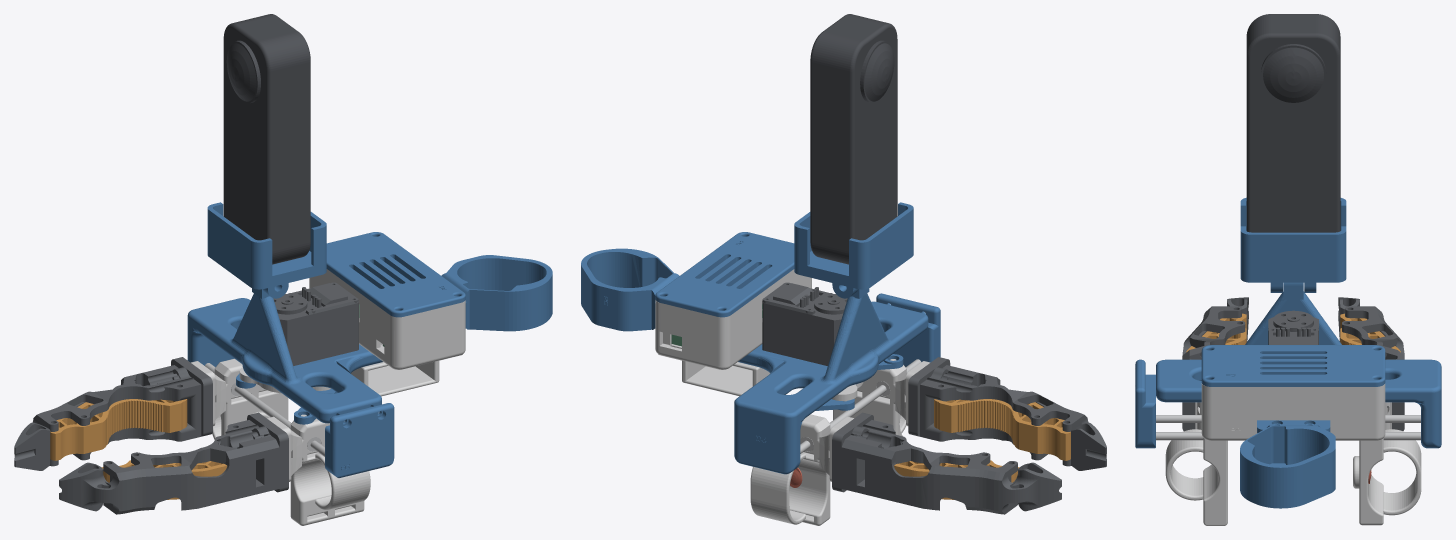
File: para-umi_right_open-enpire.glb
3 views of the same model, side by side, from view 1: azimuth 30°, elevation 25°; view 2: azimuth 150°, elevation 25°; view 3: azimuth 270°, elevation 25° (orthographic). The views are drawn at different scales.
Visible parts, largest first — view 1: insta360_x5, tip_thumb, main_support, tip_index, electronics_lid, controller_support, electronics_box, x5_wrist_mount, servo_sts3215, thumb_link, tip_index_1, main_support_cover_plate (+4 smaller); view 2: insta360_x5, main_support, tip_index, tip_thumb, electronics_lid, controller_support, electronics_box, index_link, x5_wrist_mount, servo_sts3215, tip_thumb_1, thumb_link (+4 smaller); view 3: insta360_x5, electronics_box, electronics_lid, controller_support, main_support, x5_wrist_mount, index_link, thumb_link, tip_thumb, tip_index, main_support_cover_plate, servo_sts3215 (+4 smaller).
Boxes of the visible parts, bbox=[...] form: insta360_x5: bbox=[223, 14, 310, 264]; tip_thumb: bbox=[59, 412, 288, 514]; main_support: bbox=[187, 288, 382, 423]; tip_index: bbox=[14, 357, 212, 470]; electronics_lid: bbox=[326, 232, 465, 317]; controller_support: bbox=[441, 255, 552, 331]; electronics_box: bbox=[309, 269, 465, 369]; x5_wrist_mount: bbox=[207, 202, 326, 298]; servo_sts3215: bbox=[273, 282, 358, 365]; thumb_link: bbox=[267, 414, 370, 525]; tip_index_1: bbox=[50, 399, 187, 460]; main_support_cover_plate: bbox=[325, 403, 394, 477]; insta360_x5: bbox=[810, 14, 897, 264]; main_support: bbox=[734, 288, 928, 474]; tip_index: bbox=[832, 412, 1061, 514]; tip_thumb: bbox=[908, 357, 1106, 470]; electronics_lid: bbox=[655, 232, 794, 317]; controller_support: bbox=[581, 248, 679, 331]; electronics_box: bbox=[655, 269, 811, 369]; index_link: bbox=[750, 414, 853, 525]; x5_wrist_mount: bbox=[794, 202, 913, 298]; servo_sts3215: bbox=[762, 282, 847, 365]; tip_thumb_1: bbox=[934, 399, 1070, 460]; thumb_link: bbox=[833, 359, 930, 440]; insta360_x5: bbox=[1246, 14, 1340, 232]; electronics_box: bbox=[1201, 383, 1385, 440]; electronics_lid: bbox=[1201, 345, 1385, 386]; controller_support: bbox=[1240, 420, 1335, 508]; main_support: bbox=[1156, 282, 1441, 448]; x5_wrist_mount: bbox=[1240, 197, 1346, 292]; index_link: bbox=[1353, 402, 1421, 525]; thumb_link: bbox=[1165, 402, 1227, 525]; tip_thumb: bbox=[1182, 297, 1248, 431]; tip_index: bbox=[1338, 297, 1404, 430]; main_support_cover_plate: bbox=[1135, 359, 1155, 448]; servo_sts3215: bbox=[1268, 310, 1318, 344].
Bounding box in the file's own units: 0.2926 × 0.2575 × 0.15.
